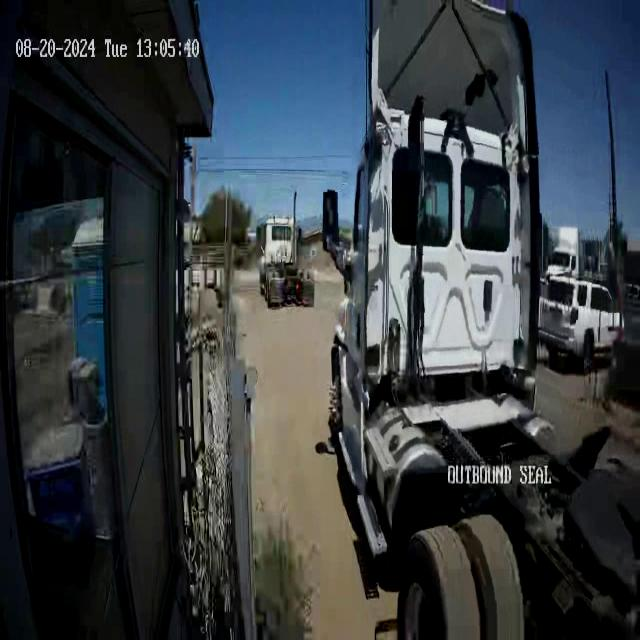BOBTAIL: (319, 1, 546, 590)
